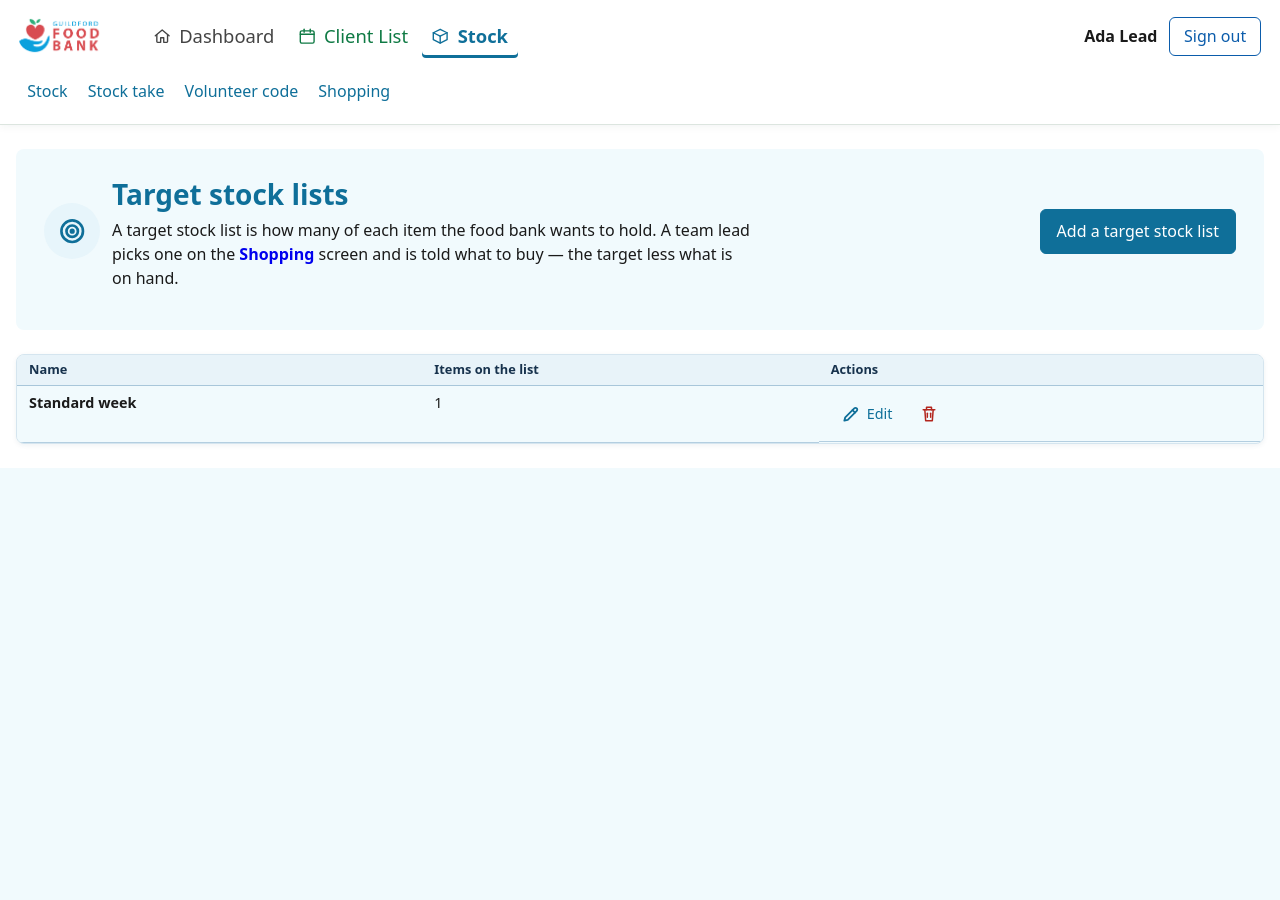
it: a team lead on the target-stock-list maintenance screen › reads the list but is refused when they try to delete one
Click the button named "Delete Standard week": (929, 414) [907,392,951,436]
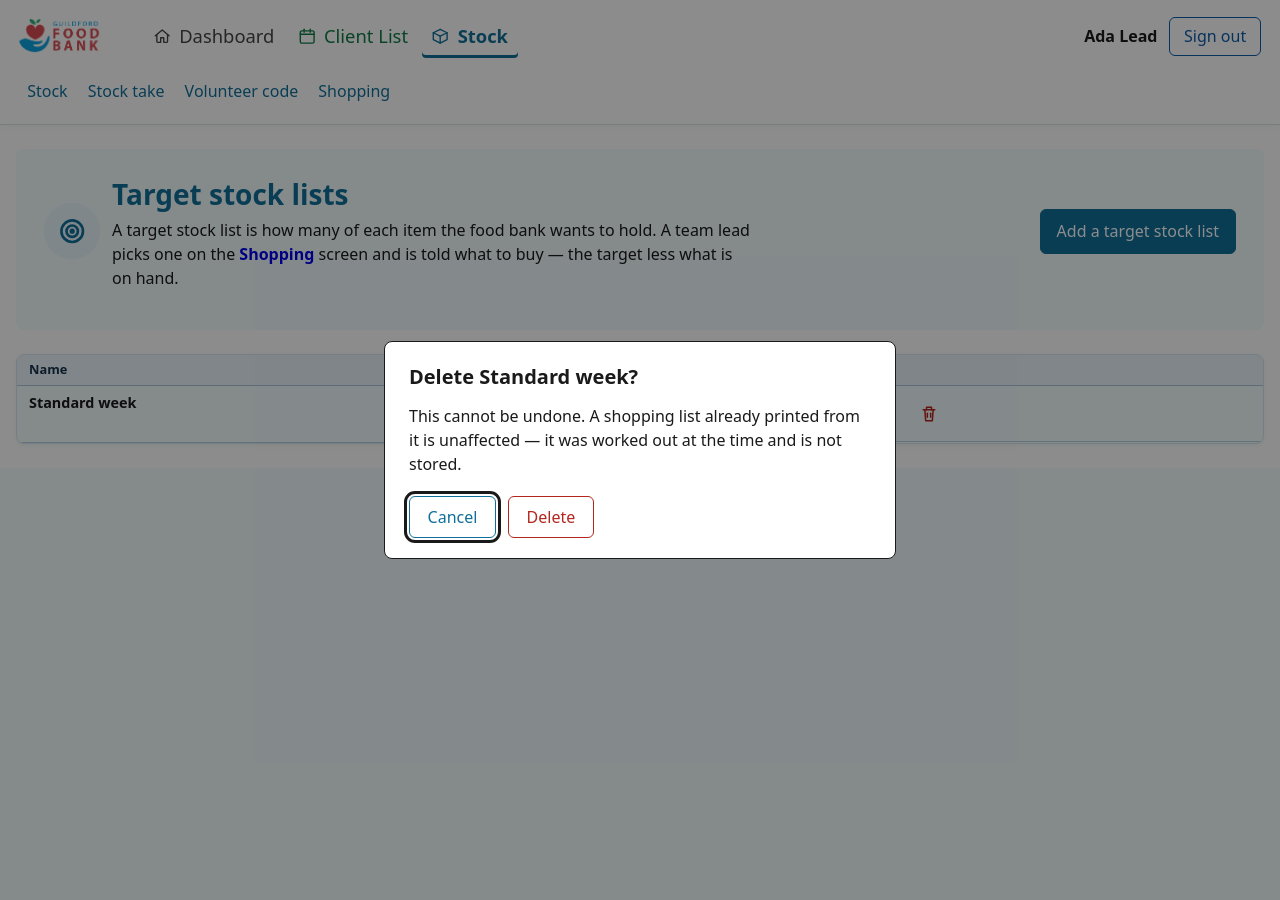
Click the button "Delete": (551, 517) [508,496,594,538]
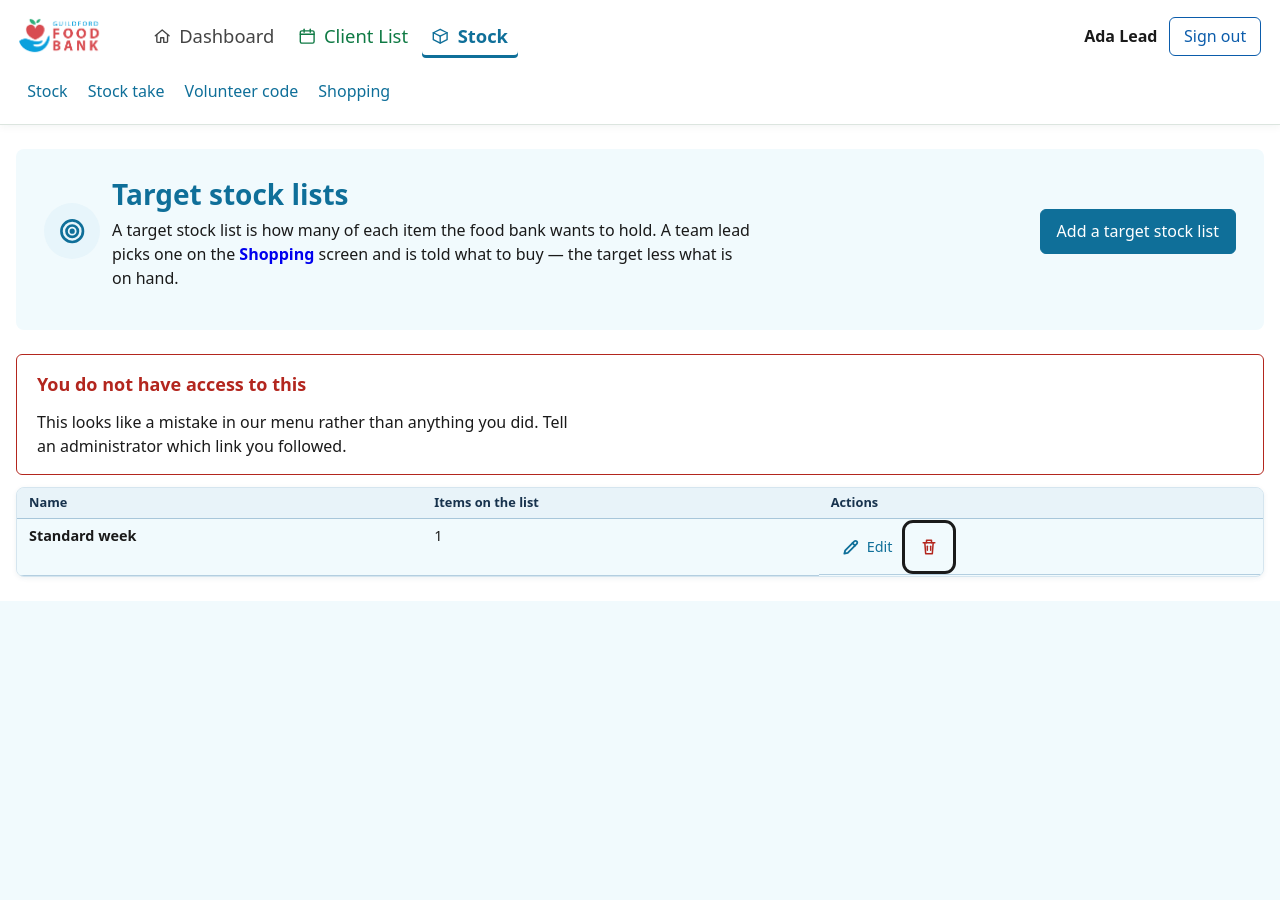
Expected: the message shows "You do not have access to this", [37,372,306,396]
